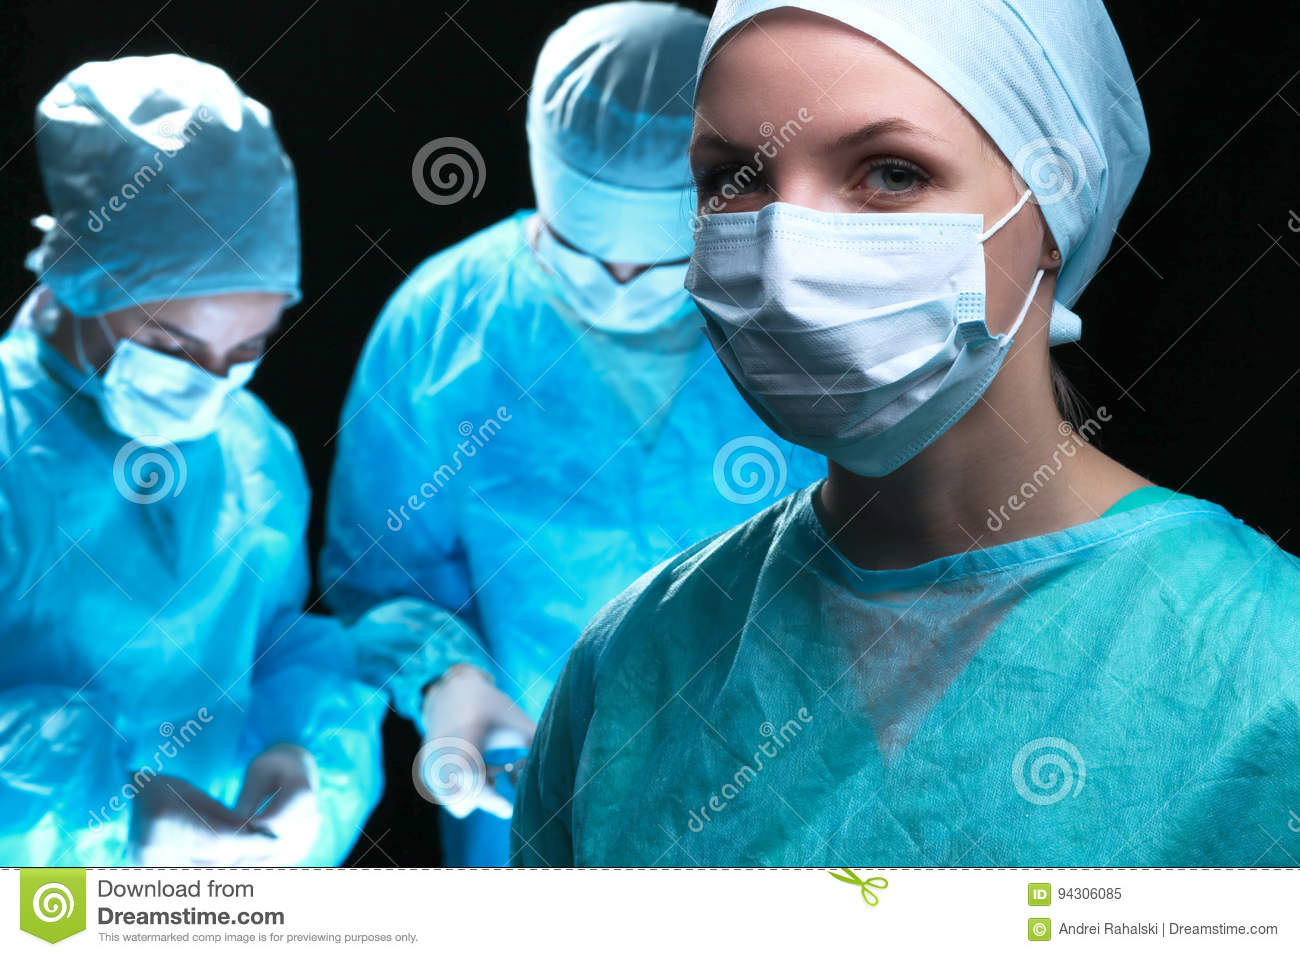mask: (672, 201, 994, 463)
